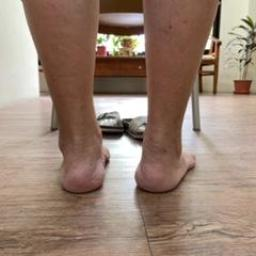Back View -Both Feet-: (44, 88, 204, 214)
